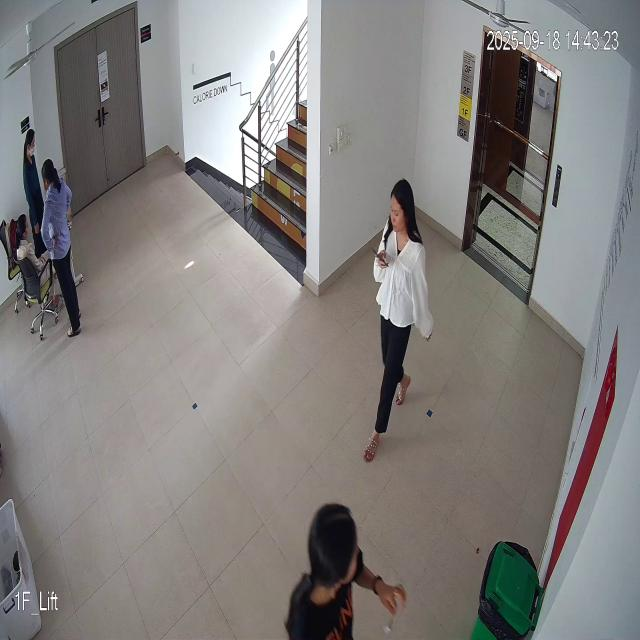face: (388, 175, 416, 241)
